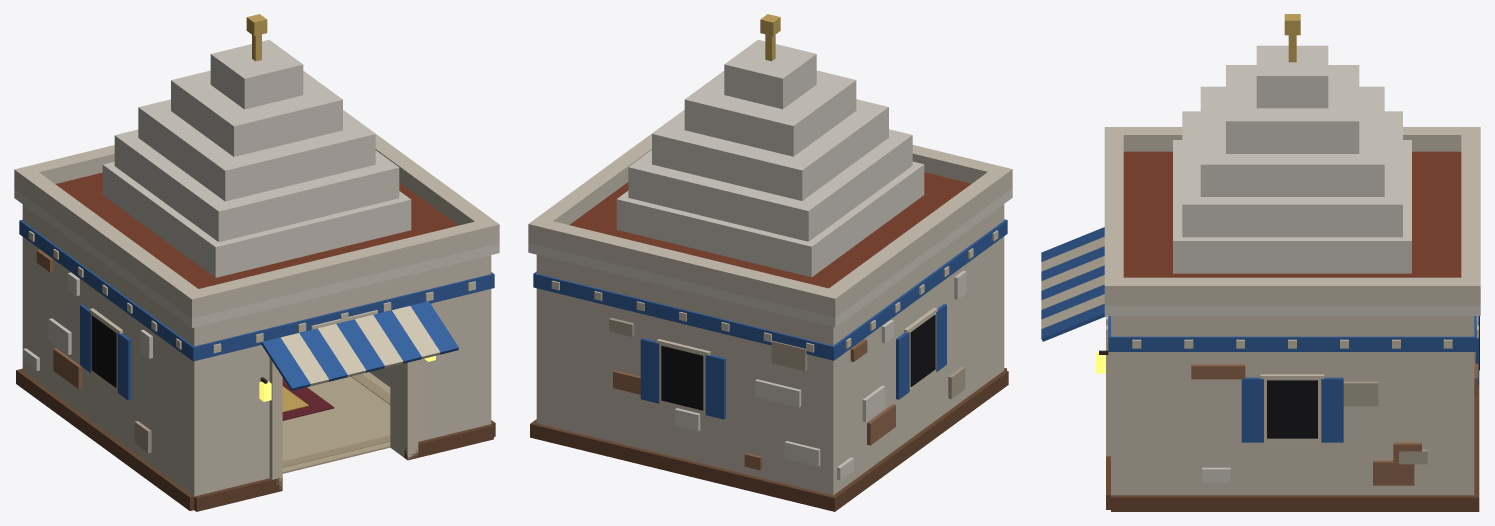
Rendered from dd_quarter_b.glb.
3 renders of one model, left to right at view 1: azimuth 30°, elevation 25°; view 2: azimuth 150°, elevation 25°; view 3: azimuth 270°, elevation 25°, orthographic. The views are drawn at different scales.
Visible parts, largest first — view 1: DUBG_dd_quarter_b, DUBG_dd_quarter_b_roof; view 2: DUBG_dd_quarter_b, DUBG_dd_quarter_b_roof; view 3: DUBG_dd_quarter_b_roof, DUBG_dd_quarter_b.
Part boxes in pixels (bbox=[...]): DUBG_dd_quarter_b: bbox=[16, 204, 495, 511]; DUBG_dd_quarter_b_roof: bbox=[14, 14, 499, 327]; DUBG_dd_quarter_b: bbox=[530, 204, 1008, 511]; DUBG_dd_quarter_b_roof: bbox=[528, 14, 1012, 327]; DUBG_dd_quarter_b_roof: bbox=[1104, 14, 1480, 315]; DUBG_dd_quarter_b: bbox=[1041, 227, 1479, 511].
Size of the model in its own units: 11.8 by 14.4 by 13.78.
